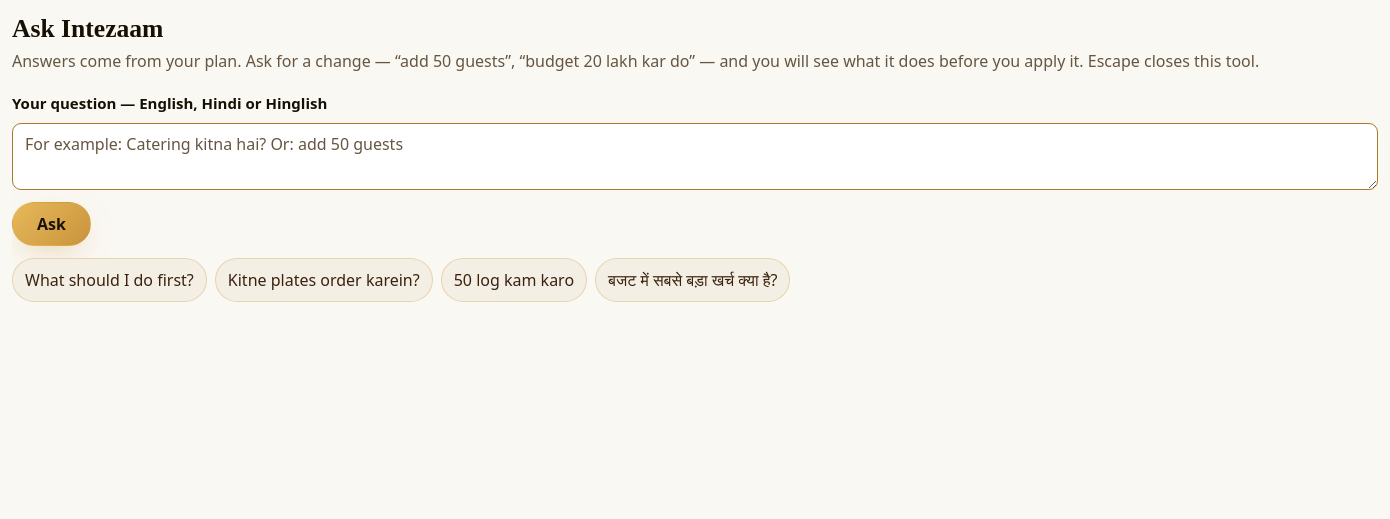
Test case: AskDrawer › cites the plan sections an answer used, linking to their tabs, with provenance
Type "Kitne plates order karein?" into the text box labelled "Your question — English, Hindi or Hinglish" at (695, 157), box [12,123,1378,190]
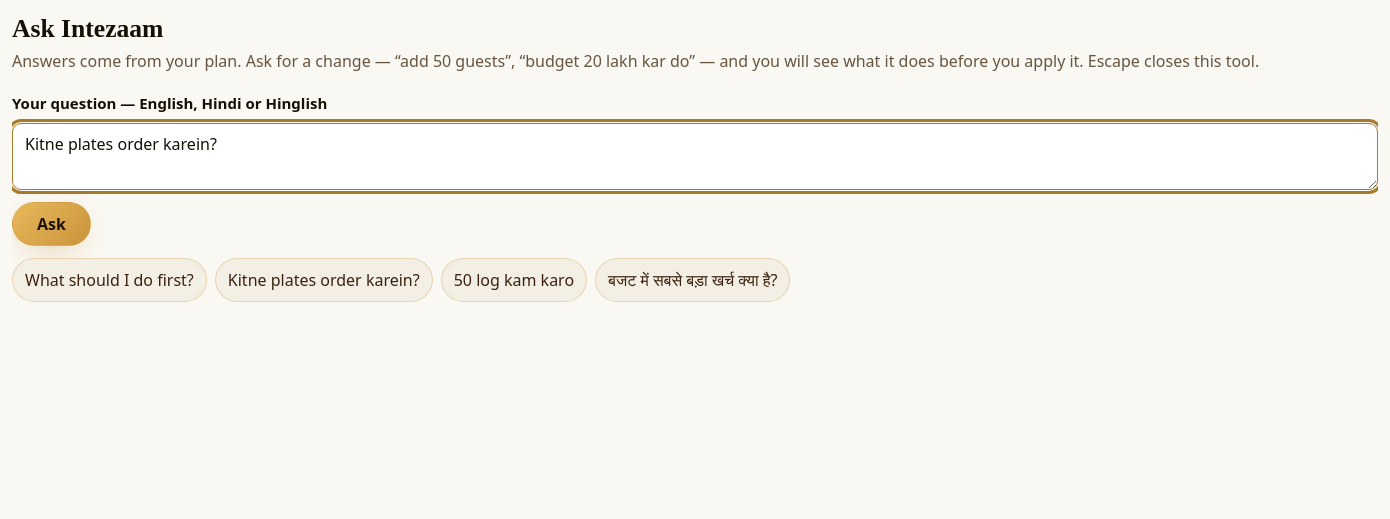
Click the button "Ask" at (51, 224), box [12,202,91,246]
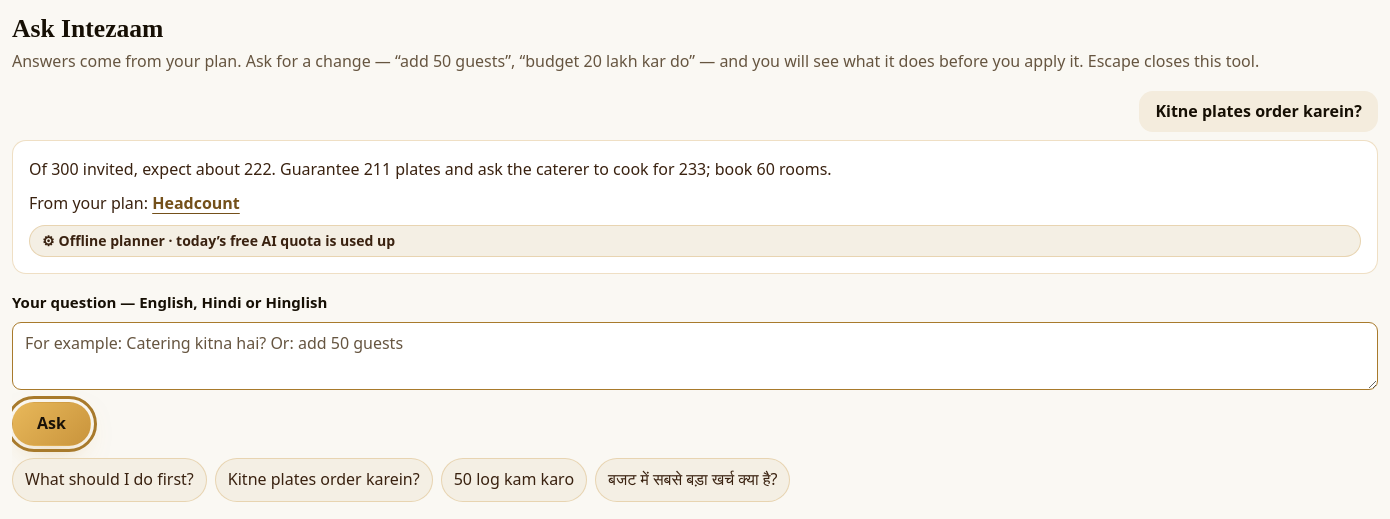
Result: the text "Offline planner · today’s free AI quota is used up" is shown at [59,230,395,252]
Result: the text box labelled "Your question — English, Hindi or Hinglish" is empty at [12,322,1378,390]
